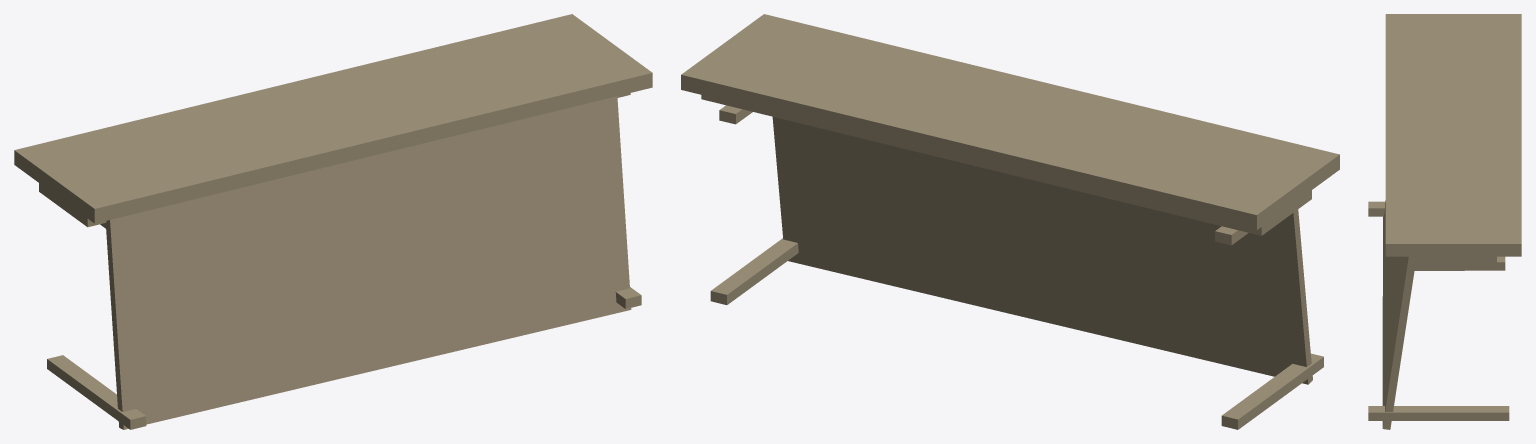
3 views of the same model, side by side, from view 1: azimuth 30°, elevation 25°; view 2: azimuth 150°, elevation 25°; view 3: azimuth 270°, elevation 25° (orthographic). The views are drawn at different scales.
Parts seen in each view (by area): view 1: 立方體.031; view 2: 立方體.031; view 3: 立方體.031.
Part boxes in pixels (x1,y1,x2,y2): 立方體.031: (14,14,652,429); 立方體.031: (681,14,1339,429); 立方體.031: (1368,14,1521,429).
Bounding box in the file's own units: 1.9 × 0.7539 × 0.5359.
